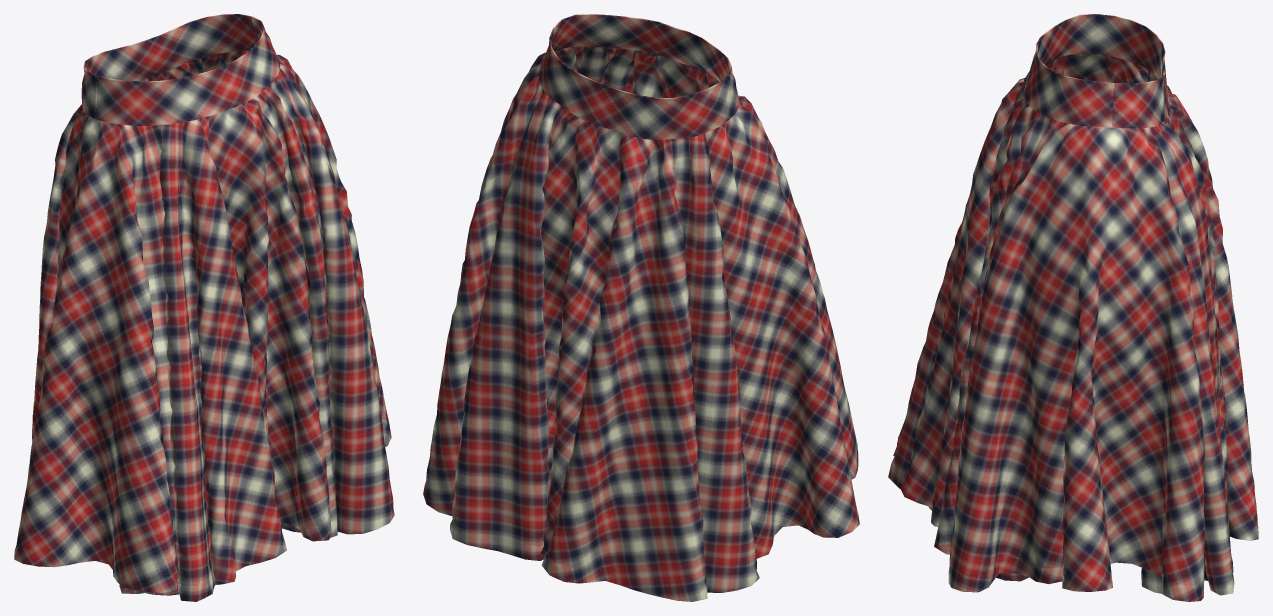
File: skirt 1_fbx_thick.fbx
3 renders of one model, left to right at view 1: azimuth 30°, elevation 25°; view 2: azimuth 150°, elevation 25°; view 3: azimuth 270°, elevation 25°, orthographic. The views are drawn at different scales.
Visible parts, largest first — view 1: skirt 1_fbx_thick; view 2: skirt 1_fbx_thick; view 3: skirt 1_fbx_thick.
Part boxes in pixels (left/top/right/bottom): skirt 1_fbx_thick: left=14, top=14, right=394, bottom=601; skirt 1_fbx_thick: left=423, top=14, right=859, bottom=601; skirt 1_fbx_thick: left=888, top=14, right=1258, bottom=601.
Size of the model in its own units: 56.02 by 68.35 by 44.8.
